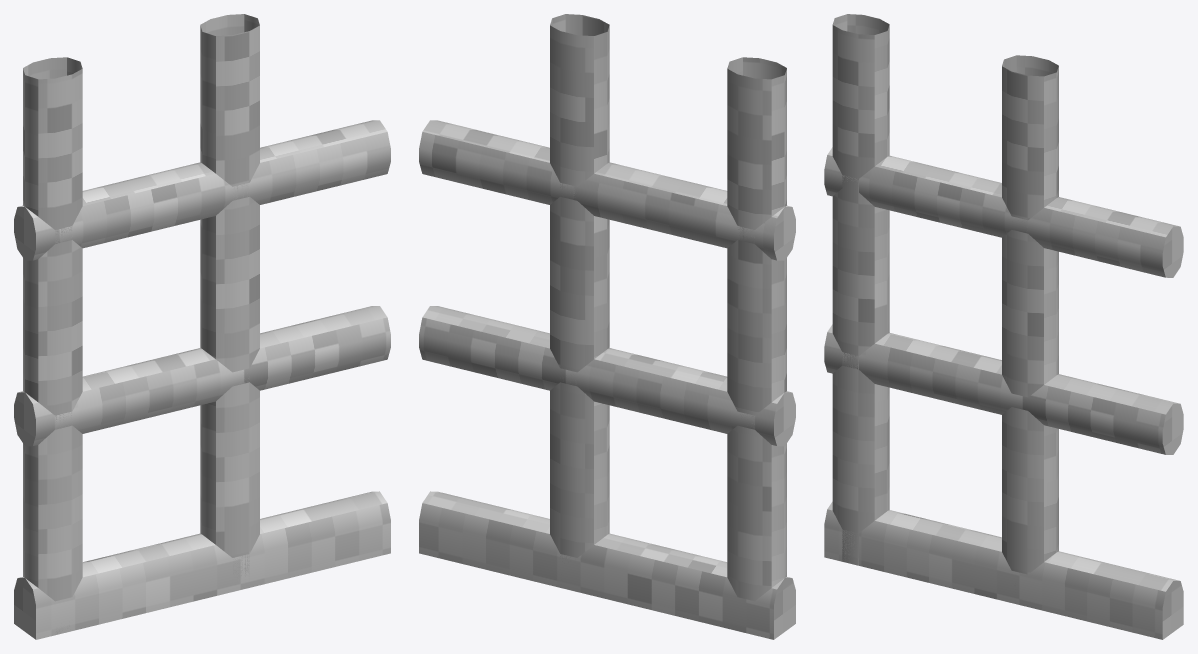
File: bars.fbx
3 renders of one model, left to right at view 1: azimuth 30°, elevation 25°; view 2: azimuth 150°, elevation 25°; view 3: azimuth 330°, elevation 25°, orthographic. The views are drawn at different scales.
Visible parts, largest first — view 1: pCube9, pCube10, pCube6, pCube7, pCube8; view 2: pCube9, pCube10, pCube6, pCube7, pCube8; view 3: pCube9, pCube10, pCube6, pCube7, pCube8.
Boxes of the visible parts, x1,y1,x2,y2 form: pCube9: [23, 57, 82, 634]; pCube10: [200, 14, 259, 581]; pCube6: [14, 491, 390, 639]; pCube7: [14, 306, 390, 446]; pCube8: [14, 120, 390, 260]; pCube9: [727, 57, 786, 601]; pCube10: [550, 14, 609, 558]; pCube6: [419, 491, 795, 639]; pCube7: [419, 306, 795, 446]; pCube8: [419, 120, 795, 260]; pCube9: [832, 14, 889, 565]; pCube10: [1002, 55, 1058, 574]; pCube6: [824, 501, 1183, 639]; pCube7: [824, 324, 1183, 454]; pCube8: [824, 147, 1183, 277].
Bounding box in the file's own units: 200 × 300 × 21.48.
